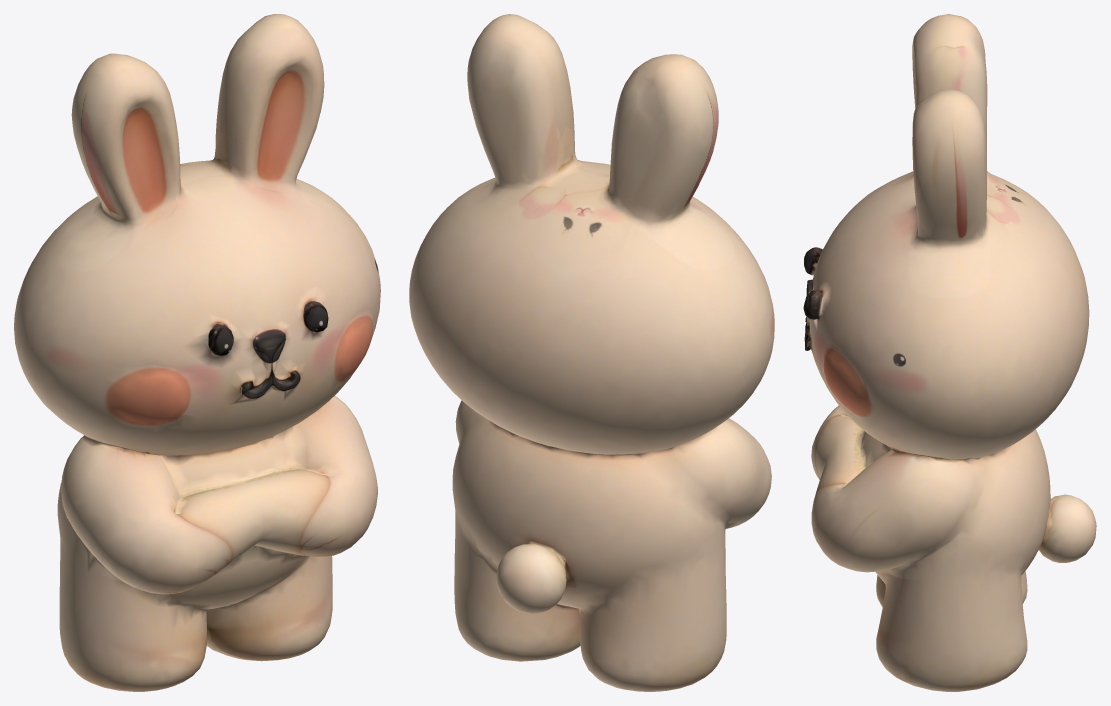
The model's file is Bunny2.glb.
3 views of the same model, side by side, from view 1: azimuth 30°, elevation 25°; view 2: azimuth 150°, elevation 25°; view 3: azimuth 270°, elevation 25° (orthographic). The views are drawn at different scales.
Size of the model in its own units: 1.14 by 2 by 0.9022.
1 material, 1 textured.
